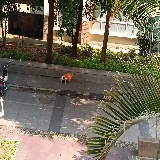fire: (63, 73, 73, 81)
